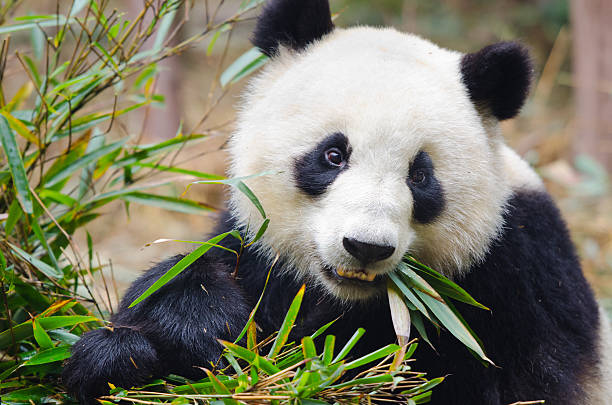panda: (223, 2, 552, 345)
